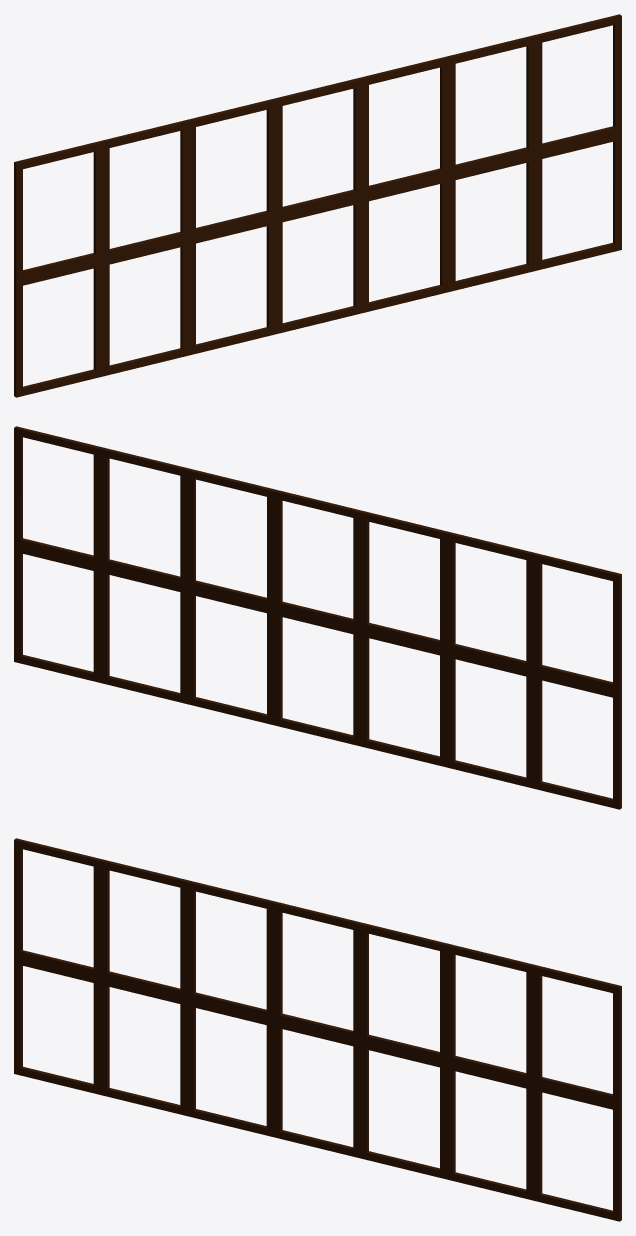
Rendered from ventana2.fbx.
The picture shows the model from 3 angles, top to bottom: view 1: azimuth 30°, elevation 25°; view 2: azimuth 150°, elevation 25°; view 3: azimuth 330°, elevation 25°; orthographic projection.
Parts seen in each view (by area): view 1: Cube.008; view 2: Cube.008; view 3: Cube.008.
Boxes of the visible parts, x1,y1,x2,y2 form: Cube.008: (14,14,621,397); Cube.008: (14,426,621,809); Cube.008: (14,838,621,1221).
Bounding box in the file's own units: 5062 × 1869 × 32.14.
